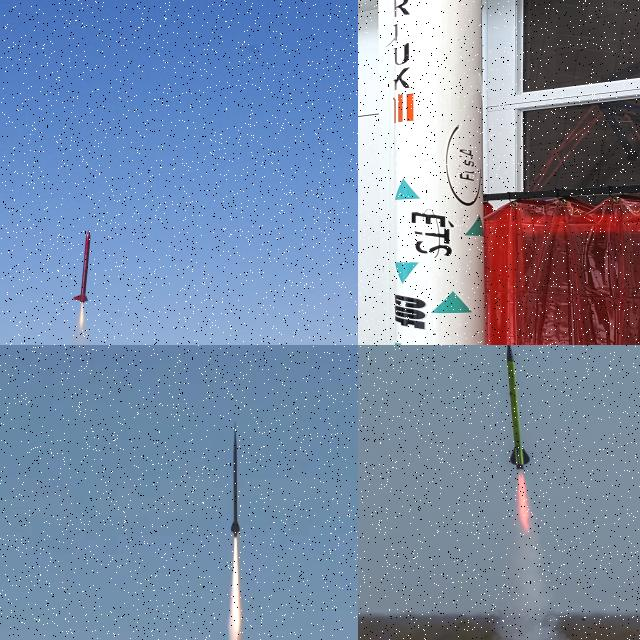Rocket: (394, 0, 485, 345), (505, 345, 530, 470), (73, 230, 90, 302), (231, 421, 240, 539)
